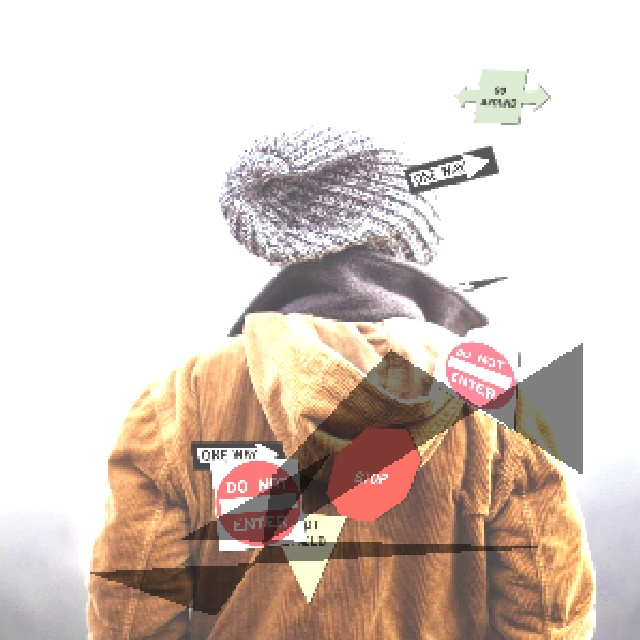DO_NOT_ENTER: (208, 455, 305, 551), (436, 334, 518, 431)
GO_AROUND: (452, 67, 549, 123)
NOT_YIELD: (262, 508, 346, 605)
ONE_WAY_ right: (401, 143, 498, 193), (188, 439, 285, 469), (448, 272, 518, 289)
STOP: (324, 424, 421, 520)
